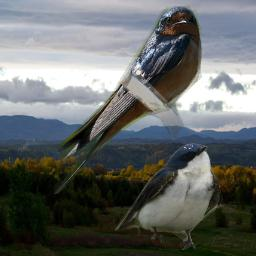Swallow: (54, 6, 202, 194), (115, 143, 223, 251)
